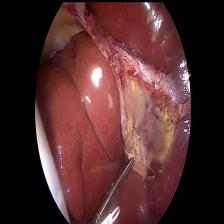Grasper: (94, 147, 138, 212)
